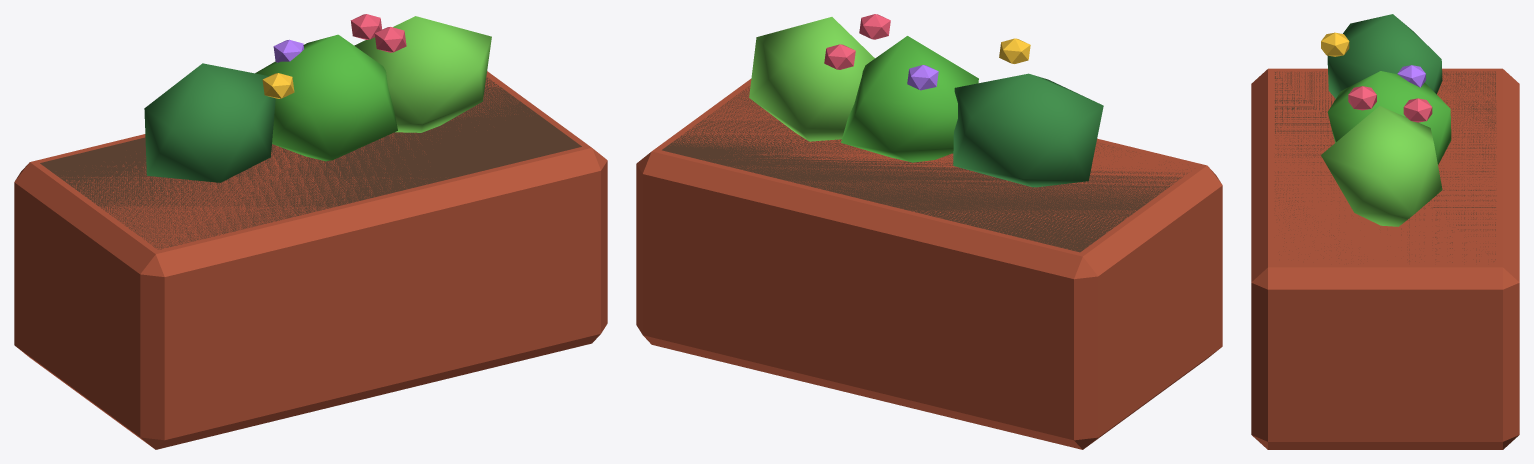
Rendered from hd_planter.gltf.
3 renders of one model, left to right at view 1: azimuth 30°, elevation 25°; view 2: azimuth 150°, elevation 25°; view 3: azimuth 270°, elevation 25°, orthographic. The views are drawn at different scales.
Parts seen in each view (by area): view 1: box, soil, sh0, sh1, sh2, fl1, fl3, fl0; view 2: box, soil, sh0, sh1, sh2, fl0, fl3, fl1, fl2; view 3: box, sh2, sh0, soil, sh1, fl1, fl3, fl0, fl2.
Part boxes in pixels (x1=…): box: x1=14, y1=71, x2=607, y2=449; soil: x1=40, y1=77, x2=581, y2=249; sh0: x1=144, y1=63, x2=275, y2=182; sh1: x1=255, y1=34, x2=397, y2=161; sh2: x1=354, y1=16, x2=491, y2=132; fl1: x1=262, y1=73, x2=294, y2=98; fl3: x1=374, y1=27, x2=406, y2=52; fl0: x1=350, y1=14, x2=382, y2=39; box: x1=636, y1=79, x2=1222, y2=449; soil: x1=662, y1=86, x2=1187, y2=252; sh0: x1=953, y1=73, x2=1103, y2=187; sh1: x1=841, y1=36, x2=978, y2=162; sh2: x1=749, y1=17, x2=874, y2=141; fl0: x1=824, y1=44, x2=855, y2=69; fl3: x1=859, y1=14, x2=890, y2=39; fl1: x1=999, y1=38, x2=1030, y2=63; fl2: x1=907, y1=65, x2=938, y2=90; box: x1=1251, y1=68, x2=1519, y2=449; sh2: x1=1321, y1=106, x2=1442, y2=226; sh0: x1=1327, y1=14, x2=1442, y2=98; soil: x1=1274, y1=71, x2=1496, y2=262; sh1: x1=1327, y1=71, x2=1451, y2=164; fl1: x1=1321, y1=32, x2=1349, y2=56; fl3: x1=1348, y1=86, x2=1376, y2=110; fl0: x1=1403, y1=98, x2=1432, y2=122; fl2: x1=1397, y1=65, x2=1425, y2=87.
Size of the model in its own units: 1.5 by 0.9702 by 0.8.
